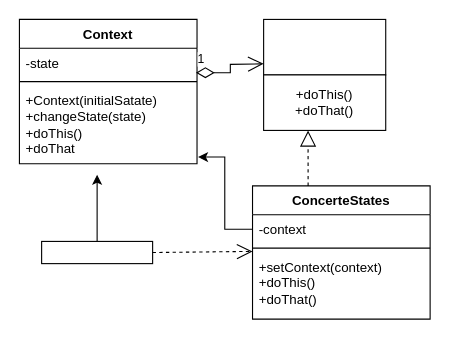
The diagram is 450 pixels wide and 342 high, and some of its shapes have lost their labels. Each missing label, with the centre of its shape:
"Client" goes at (x=97, y=252).
"«interface» State" goes at (x=324, y=46).
